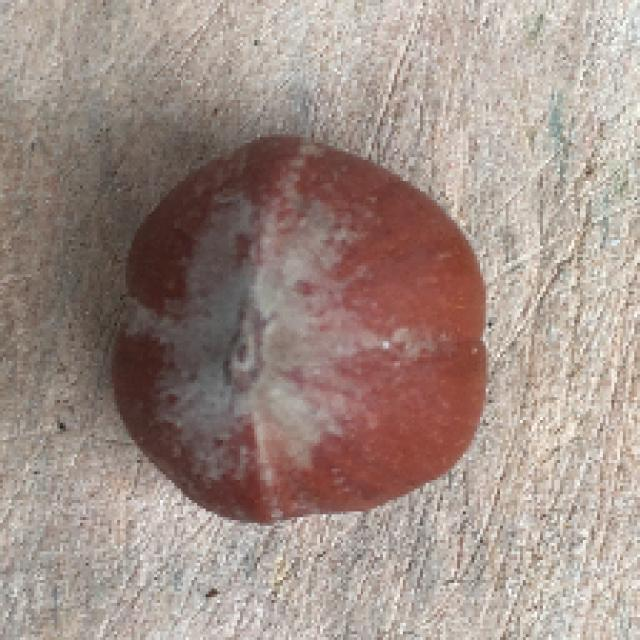QualityHazelnut: (110, 129, 486, 527)
